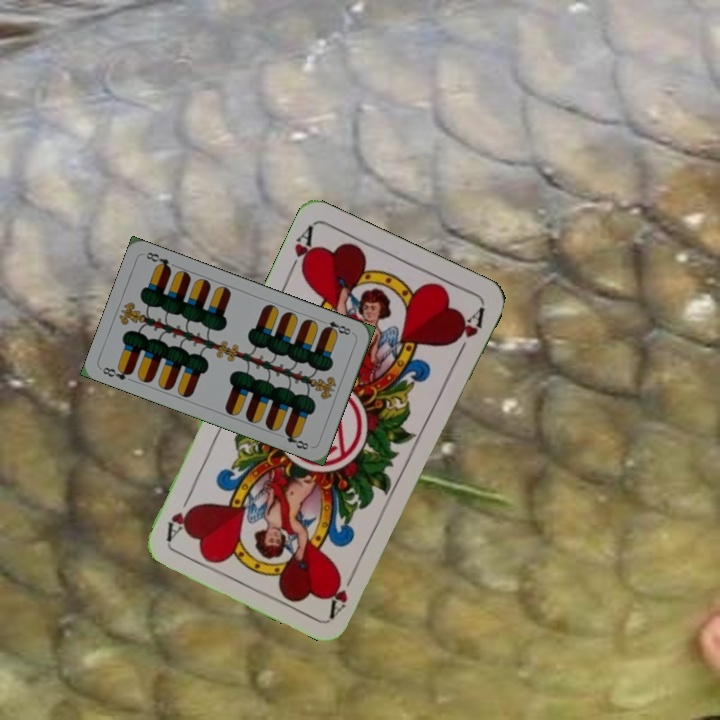E8: (317, 316, 356, 338), (98, 363, 135, 383)
HA: (283, 222, 319, 279), (325, 563, 360, 619)
